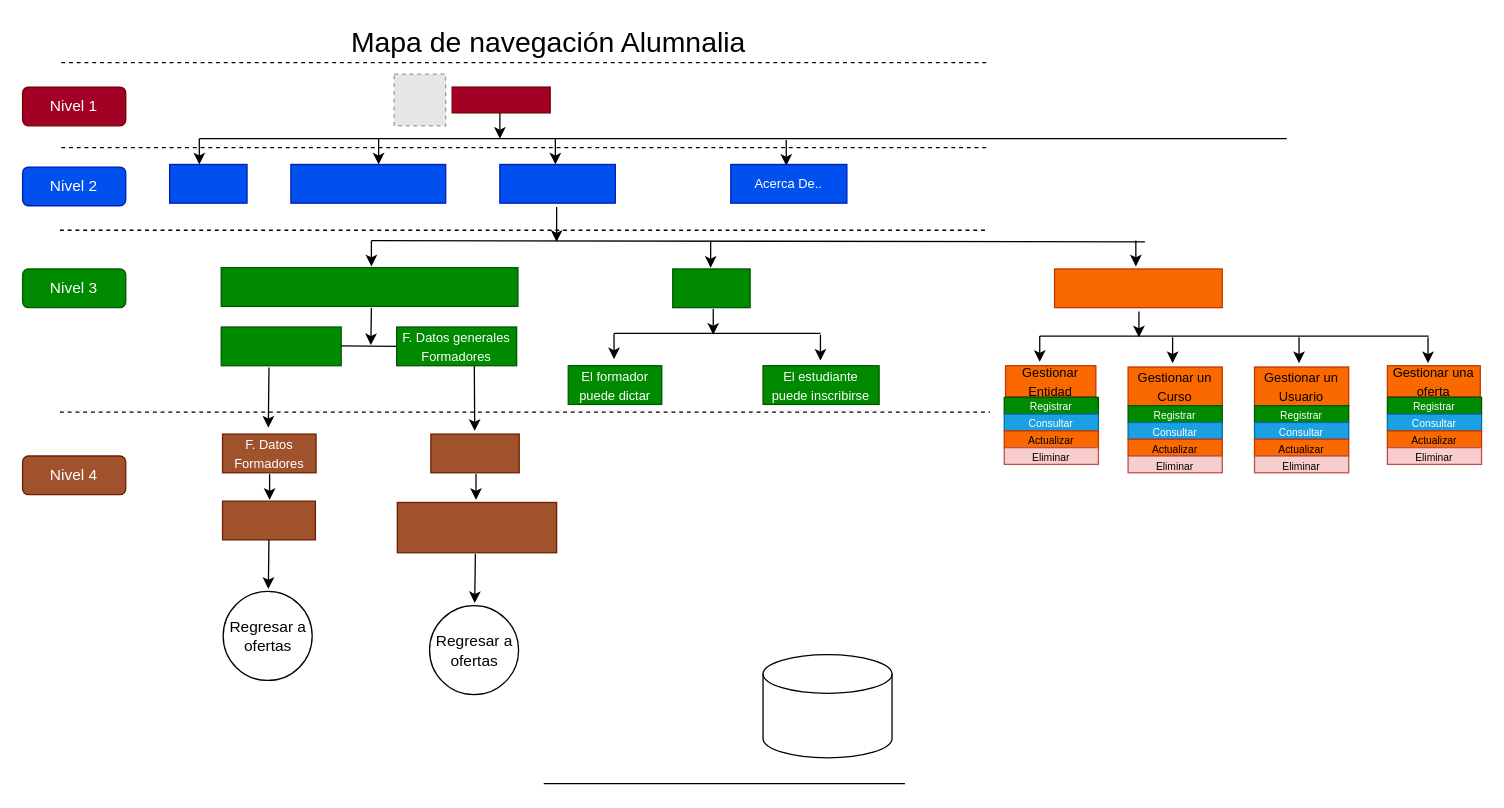
Some shapes in this 1504 by 808 pixel diagram are drawn without their labels. Grey dashed boxes stand in for pictures. The box of each missing label's shape, as (x1, y1, x2, y2) in pixels:
Adjuntar C.V.: (221, 500, 315, 540)
Administración de la: (1053, 268, 1222, 308)
Direcciones: (762, 653, 892, 758)
Evaluamos tus habilidades y áreas de interés: (396, 501, 557, 553)
F. Datos Estudiantes: (430, 433, 519, 473)
F. Datos generales Estudiantes: (220, 326, 341, 366)
Iniciar sesión: (499, 163, 615, 203)
inicio: (168, 163, 247, 203)
Intranet: (451, 86, 550, 113)
Ofertas a punto de empezar o cerrarse: (290, 163, 446, 203)
Ofertas Sugeridas: (671, 268, 750, 308)
Registrarse ( Formadores / Estudiantes ): (220, 266, 518, 306)
